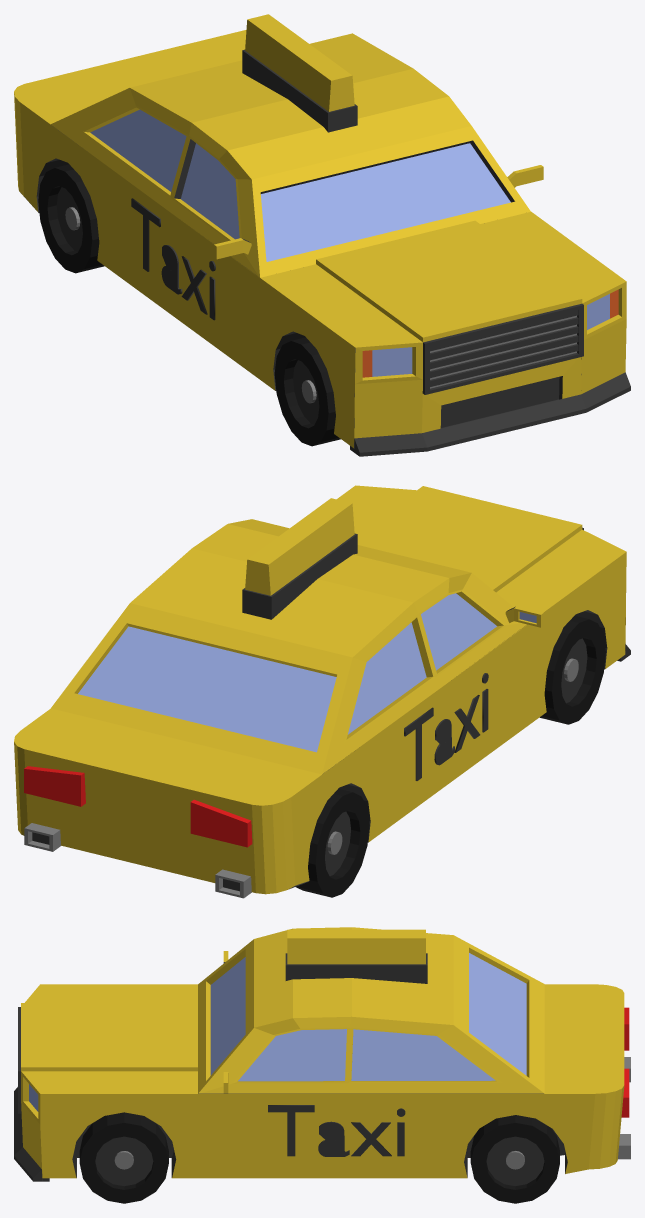
File: TaxiCar.fbx
3 views of the same model, one above another, from view 1: azimuth 30°, elevation 25°; view 2: azimuth 150°, elevation 25°; view 3: azimuth 270°, elevation 25° (orthographic). The views are drawn at different scales.
Visible parts, largest first — view 1: Main, FRightTire, RRightTire; view 2: Main, RRightTire, FRightTire; view 3: Main, FLeftTire, RLeftTire.
Boxes of the visible parts, x1,y1,x2,y2 form: Main: (14,14,630,456); FRightTire: (274,337,340,446); RRightTire: (38,164,104,273); Main: (14,485,630,898); RRightTire: (296,788,369,897); FRightTire: (539,615,605,724); Main: (14,927,630,1181); FLeftTire: (79,1112,168,1203); RLeftTire: (470,1115,559,1203).
Size of the model in its own units: 167 by 126 by 329.
